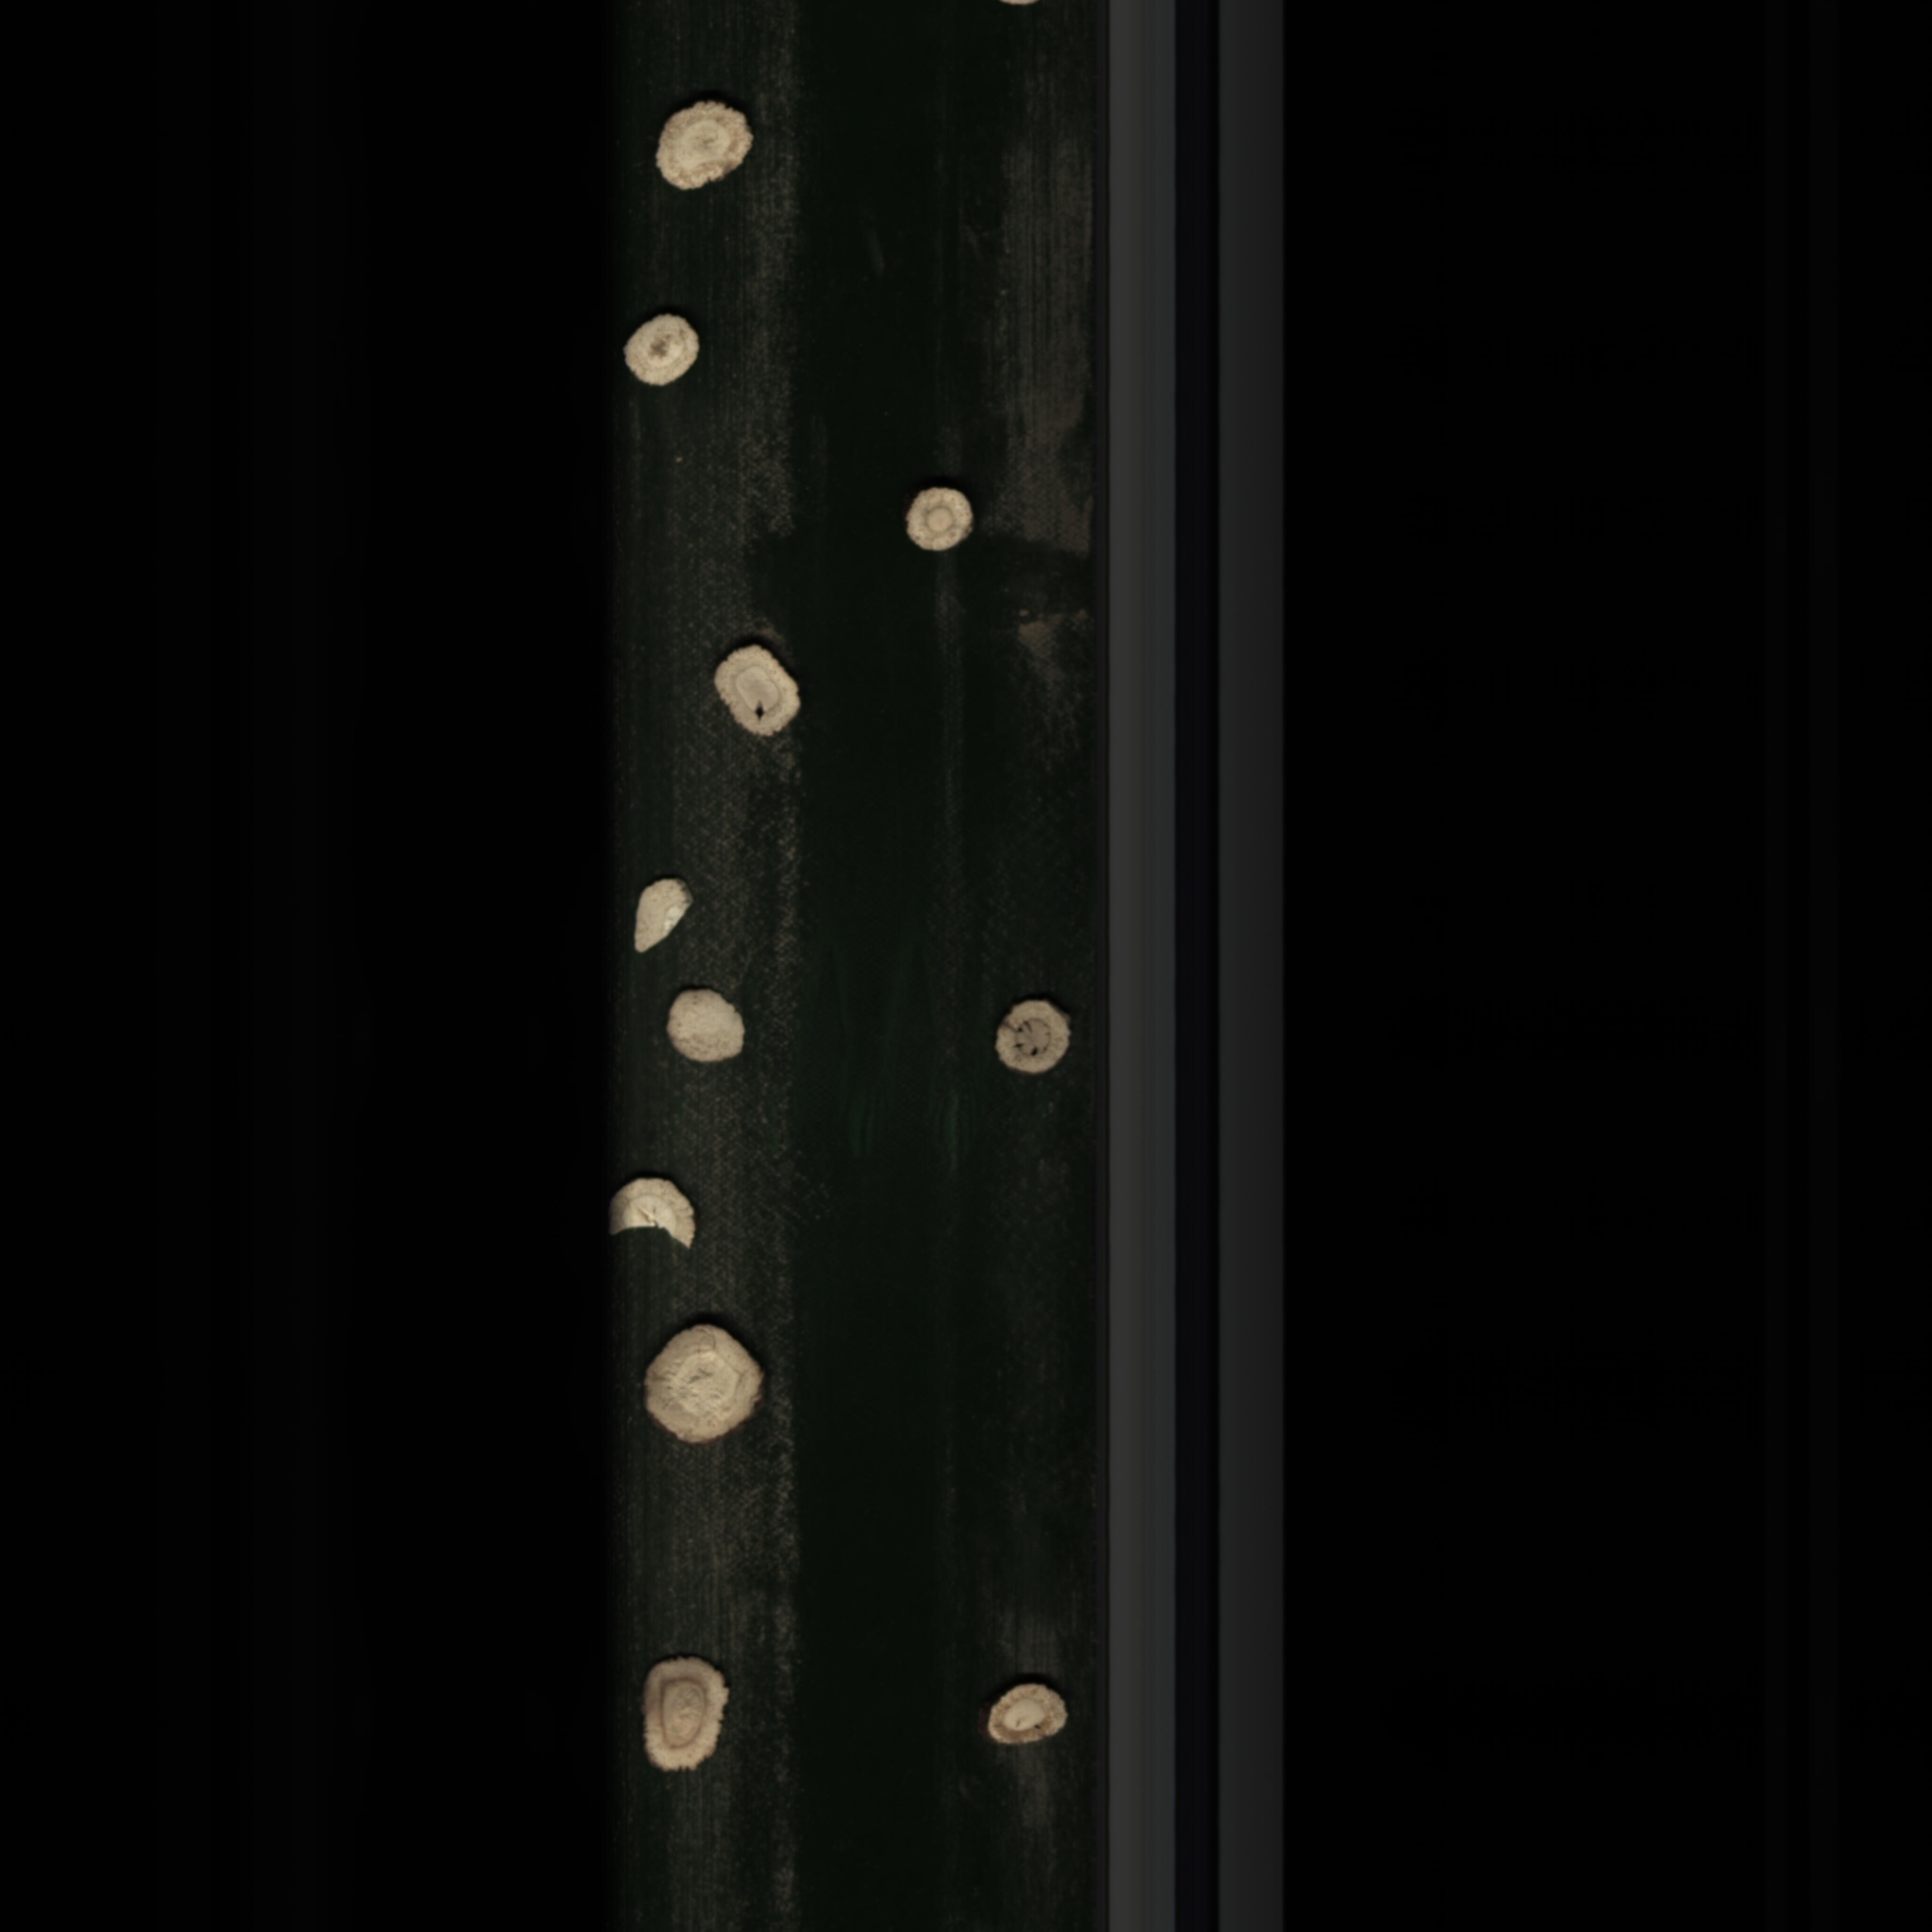debris: (605, 1169, 706, 1256), (630, 865, 697, 966)
hole: (708, 635, 812, 745), (982, 989, 1081, 1086)
moldy: (635, 1644, 743, 1794), (980, 1675, 1069, 1757)
